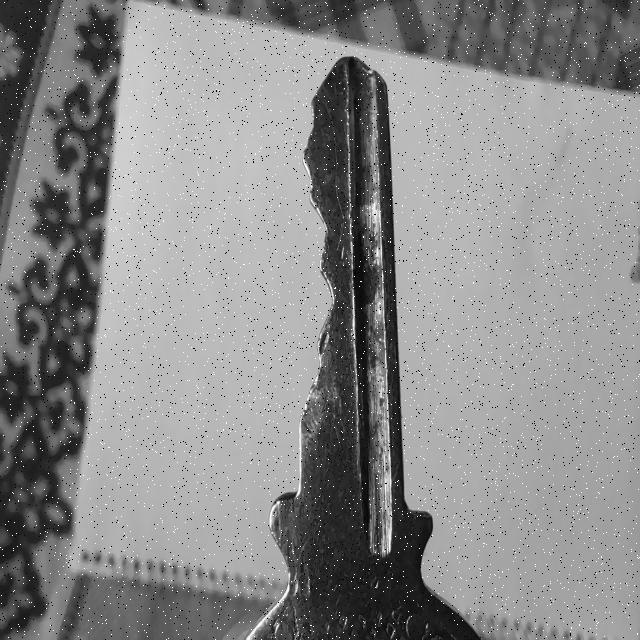key: (228, 57, 479, 640)
